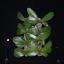leaf: (27, 8, 39, 23), (40, 12, 54, 21), (12, 36, 26, 44), (26, 49, 40, 57), (26, 18, 40, 26), (26, 40, 38, 49), (26, 33, 39, 41), (14, 50, 26, 58), (17, 11, 26, 21), (28, 28, 40, 35), (40, 46, 52, 53), (41, 41, 53, 48), (39, 32, 51, 39), (17, 23, 26, 32), (13, 42, 26, 48), (14, 49, 25, 56), (40, 26, 51, 32), (16, 28, 26, 34), (40, 50, 48, 57), (40, 20, 48, 26), (20, 35, 26, 41), (39, 40, 45, 44)
